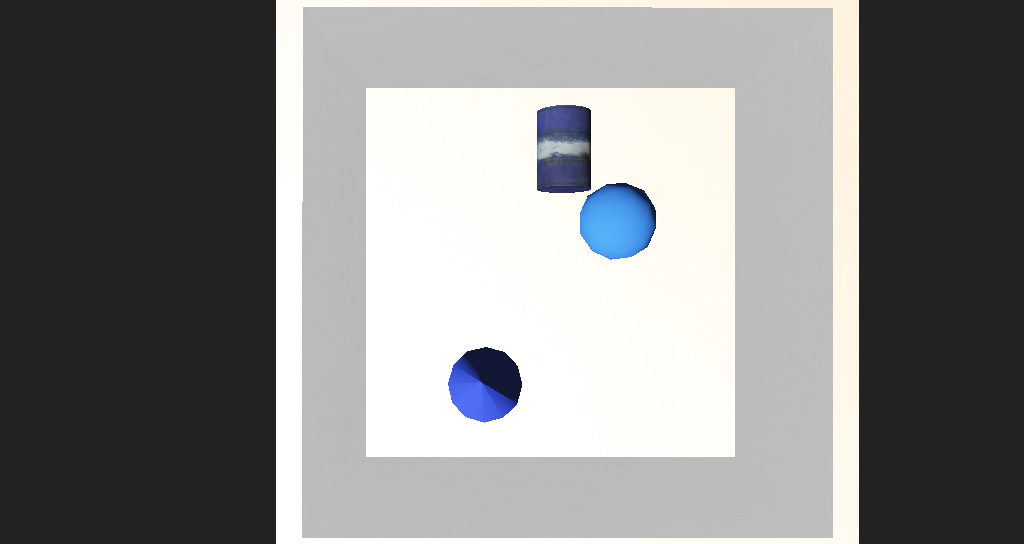cone: (495, 172, 542, 220)
cylinder: (411, 305, 478, 363)
sphere: (529, 215, 589, 262)
